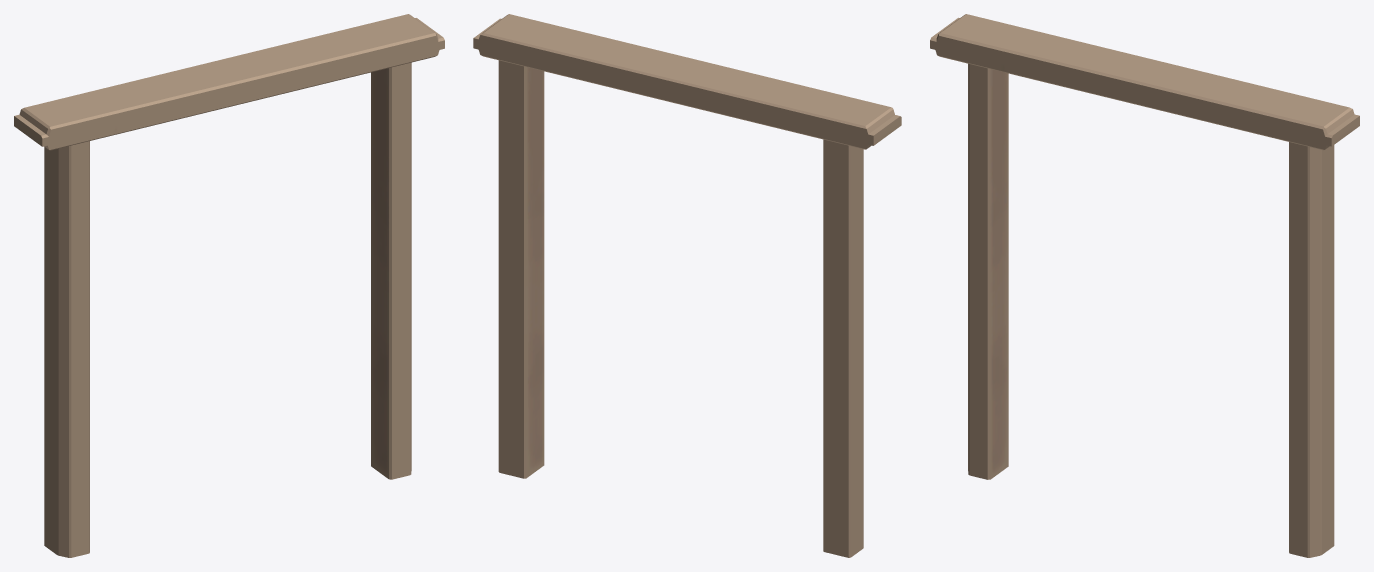
The model's file is DoorFrameBig (1).fbx.
3 views of the same model, side by side, from view 1: azimuth 30°, elevation 25°; view 2: azimuth 150°, elevation 25°; view 3: azimuth 330°, elevation 25° (orthographic).
Parts seen in each view (by area): view 1: doorTopFrame, doorSideFrame1, DoorFrameBig (1); view 2: doorTopFrame, DoorFrameBig (1), doorSideFrame1; view 3: doorTopFrame, DoorFrameBig (1), doorSideFrame1.
Boxes of the visible parts, bbox=[...] form: doorTopFrame: bbox=[14, 14, 444, 150]; doorSideFrame1: bbox=[44, 141, 89, 557]; DoorFrameBig (1): bbox=[371, 62, 411, 479]; doorTopFrame: bbox=[473, 14, 901, 149]; DoorFrameBig (1): bbox=[498, 60, 544, 478]; doorSideFrame1: bbox=[823, 139, 863, 557]; doorTopFrame: bbox=[930, 14, 1359, 150]; DoorFrameBig (1): bbox=[1289, 142, 1334, 557]; doorSideFrame1: bbox=[968, 63, 1008, 479].
Size of the model in its own units: 462 by 483 by 56.11.
